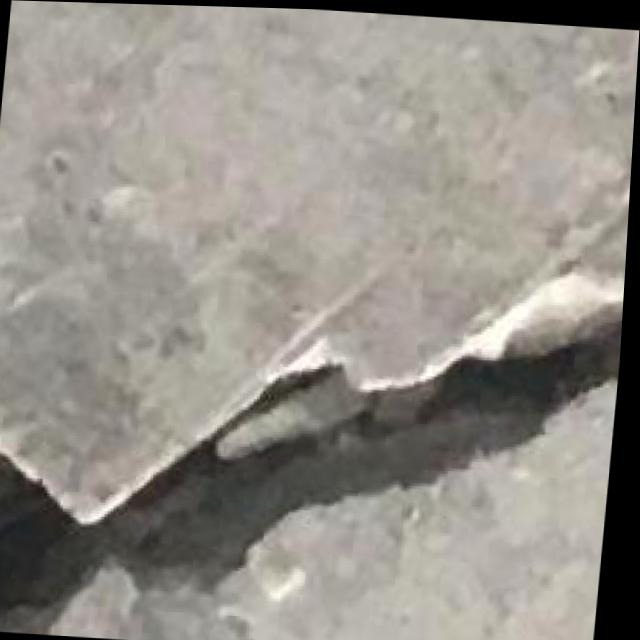Crack: (0, 226, 629, 640)
